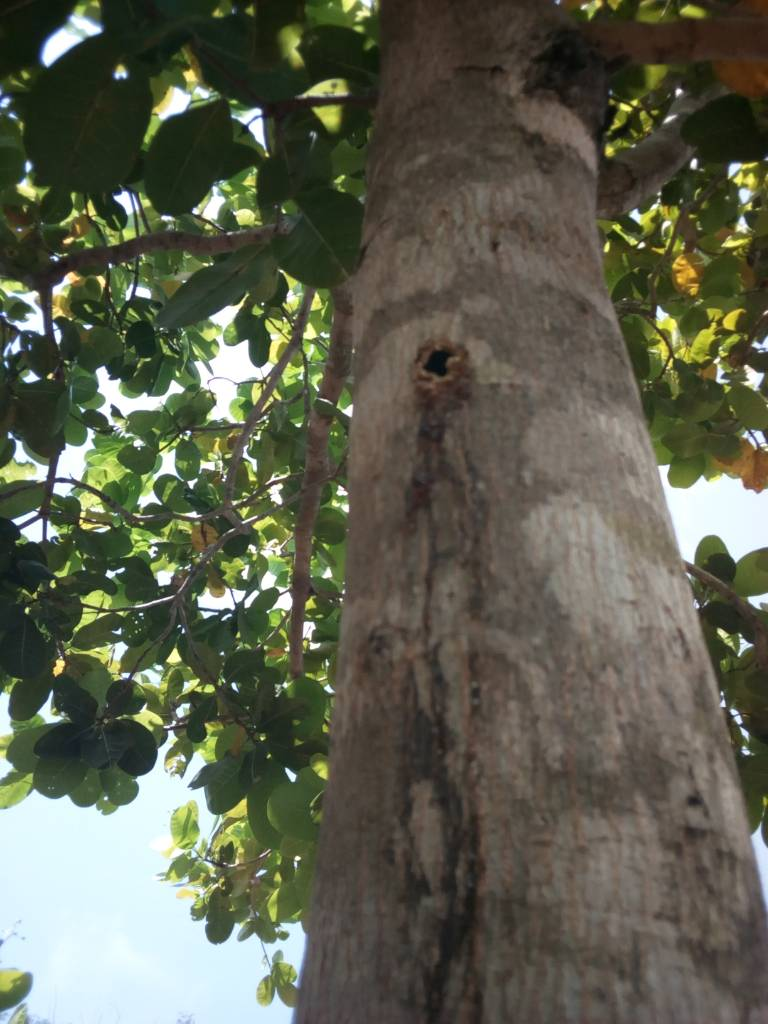Apate terebrans: (407, 332, 489, 401)
